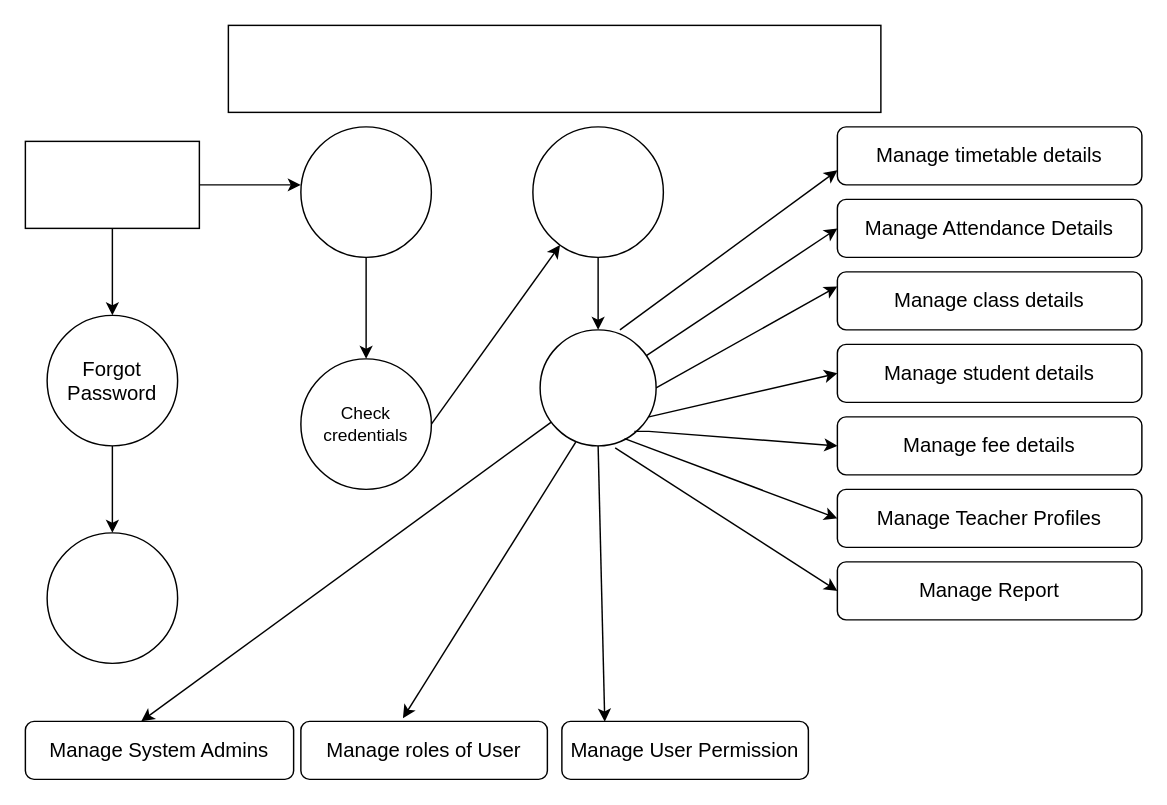
This 1167x805 diagram has some shape labels left out. Each missing label, with the box of its shape:
Admin: (24, 140, 199, 228)
Check roles of access: (531, 125, 663, 257)
Login to system: (299, 125, 431, 257)
Manage modules: (539, 328, 656, 446)
Send Email to User: (46, 531, 178, 663)
Student Information System: (227, 24, 881, 112)
